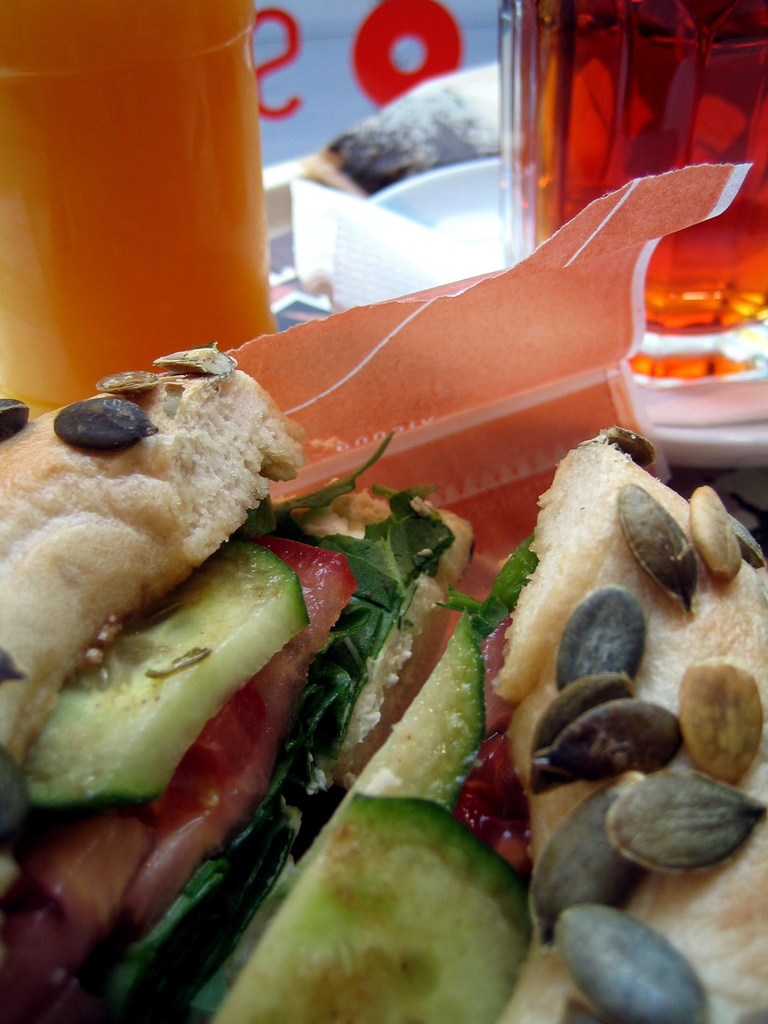sandwich: (209, 430, 767, 1021), (0, 342, 471, 1020)
